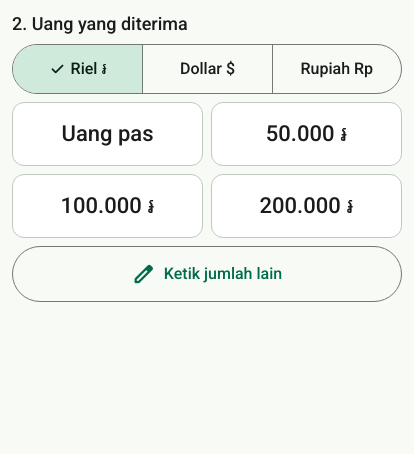
Scenario: Bayar – kembalian tunai › uang pas → kembalian 0; ketik jumlah kurang → peringatan
Click the button "Uang pas" at (108, 134), box [12,102,203,166]
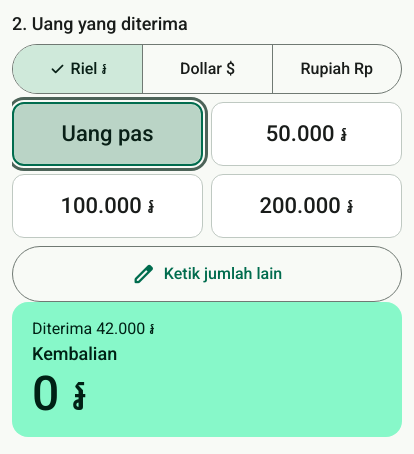
Expected: the text with test id "change-amount" reads "0 ៛", [32,365,87,422]
Click the button "Ketik jumlah lain" at (207, 274), box [12,246,402,302]
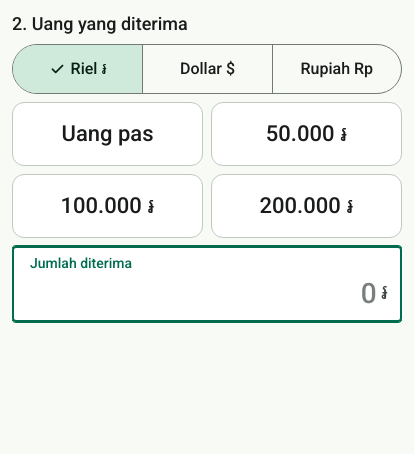
Type "20000" into the field labelled "Jumlah diterima" at (197, 284), box [14,248,381,320]
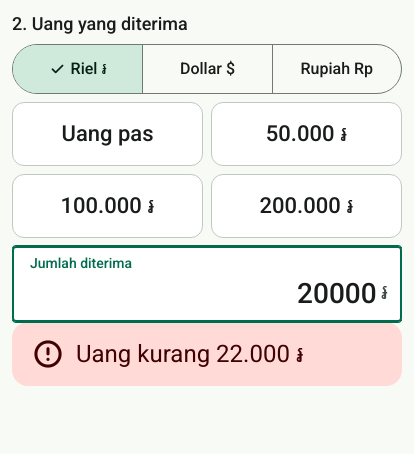
Expected: the message reads "Uang kurang 22.000 ៛", [76,340,304,368]
